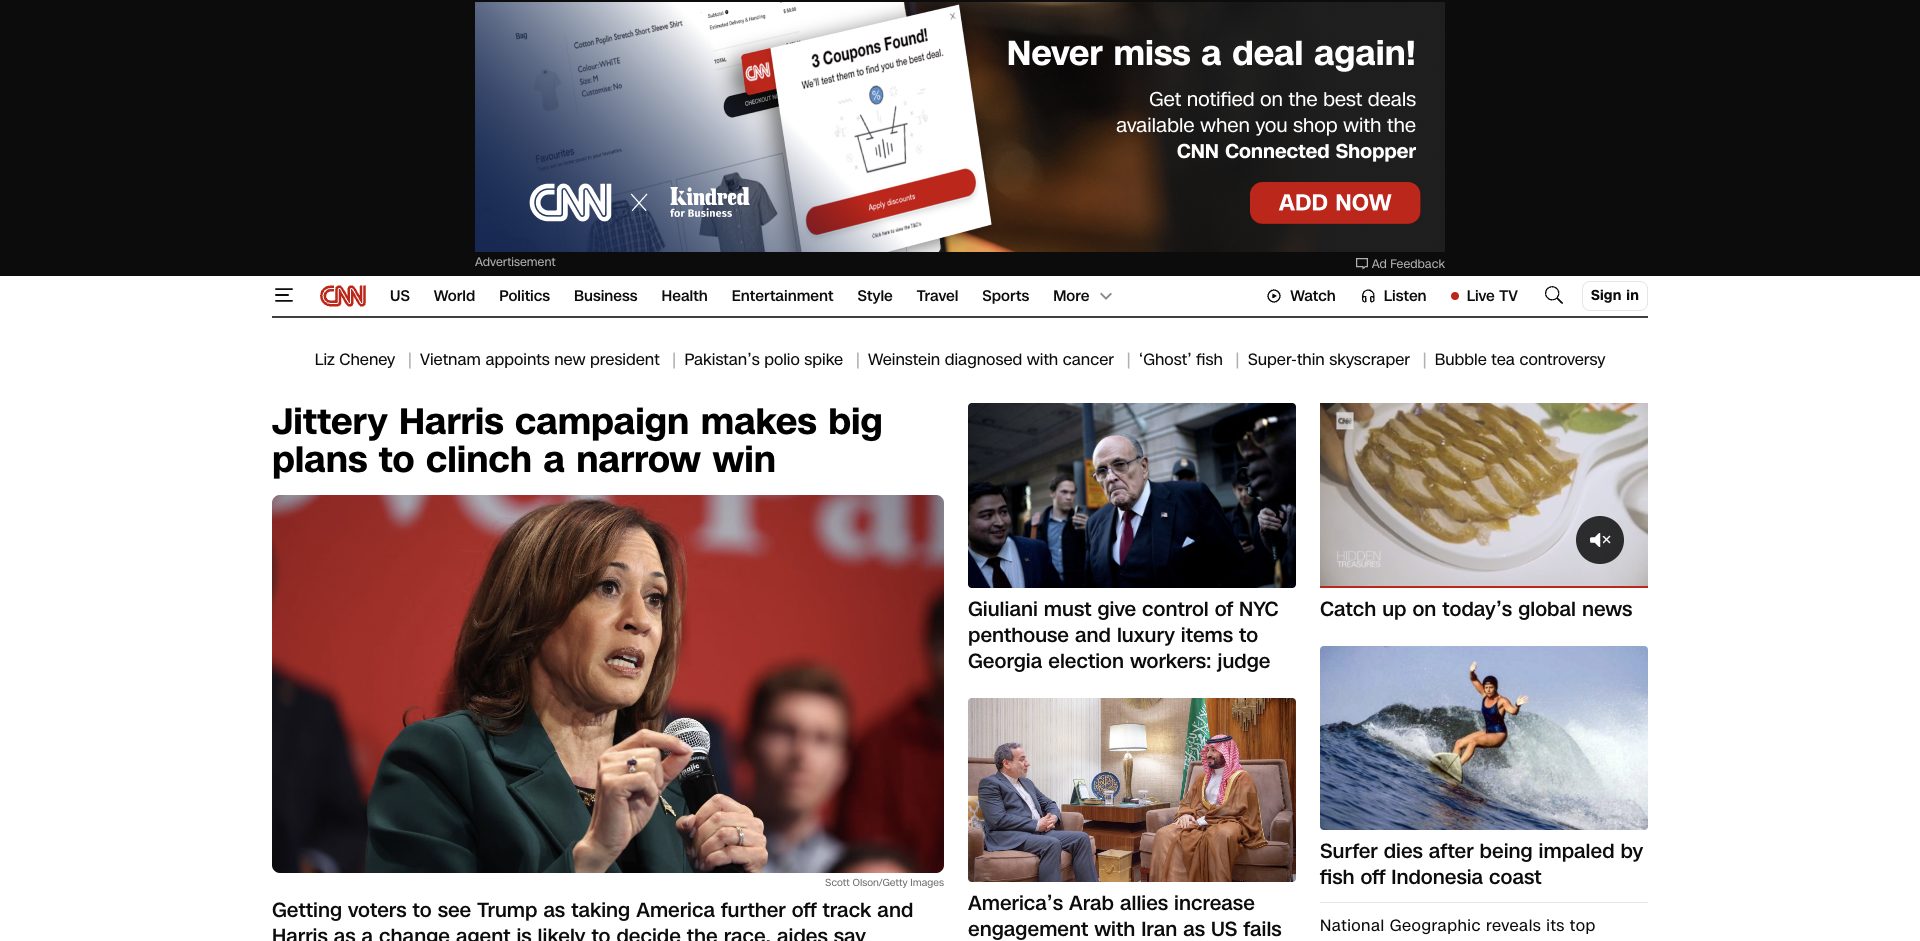button: (1053, 276, 1118, 316), (1582, 281, 1648, 311), (272, 281, 296, 312), (1542, 281, 1566, 312), (1337, 561, 1357, 582), (1523, 561, 1543, 582), (1567, 561, 1587, 582), (1611, 561, 1631, 582)
link: (272, 495, 944, 897), (969, 697, 1296, 882), (1320, 646, 1648, 830), (969, 403, 1296, 587), (272, 897, 944, 941), (969, 595, 1296, 674), (1320, 838, 1648, 890), (969, 890, 1296, 941), (272, 455, 944, 478), (1320, 595, 1648, 621), (1320, 915, 1648, 941), (868, 348, 1139, 371), (420, 348, 684, 371), (1248, 348, 1435, 371), (684, 348, 868, 371), (732, 276, 834, 316), (1435, 348, 1605, 371), (574, 276, 638, 316), (1139, 348, 1248, 371), (315, 348, 420, 371), (500, 276, 550, 316), (320, 276, 366, 316), (661, 276, 708, 316), (982, 276, 1029, 316), (433, 276, 475, 316), (917, 276, 959, 316), (1266, 285, 1336, 306), (857, 276, 893, 316), (1359, 285, 1427, 306), (1451, 285, 1518, 306), (389, 276, 410, 316)
slider: (1320, 586, 1648, 587)
